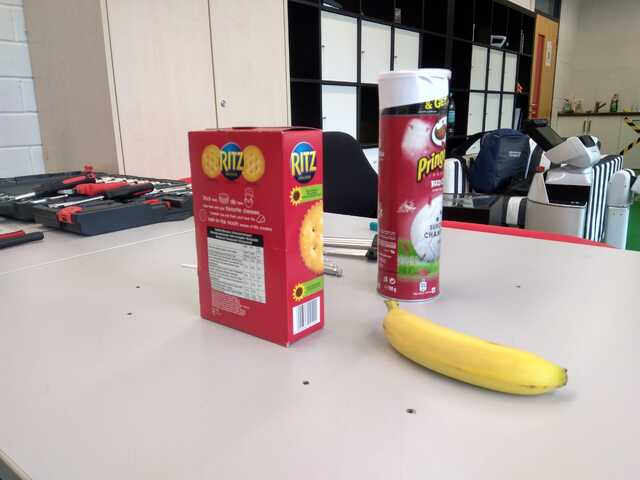001_chips_can: (376, 69, 450, 303)
003_cracker_box: (187, 126, 327, 347)
011_banana: (381, 298, 571, 396)
